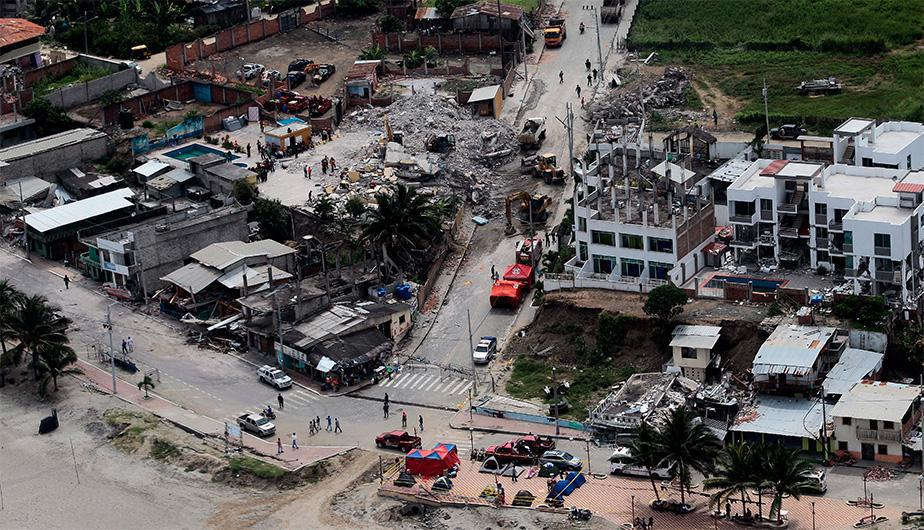major: (560, 115, 726, 286), (1, 0, 1, 1)
